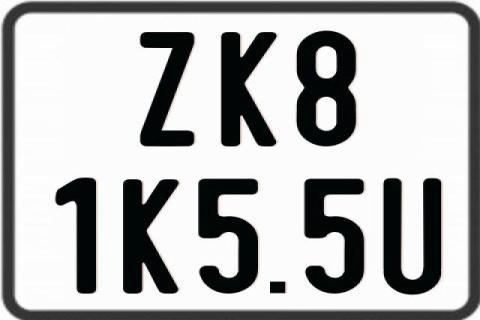0: (195, 179, 258, 295), (303, 176, 365, 292), (296, 28, 357, 145), (54, 176, 100, 297)
K: (219, 31, 277, 151), (122, 179, 181, 296)
U: (380, 178, 444, 296)
Z: (138, 31, 198, 148)
